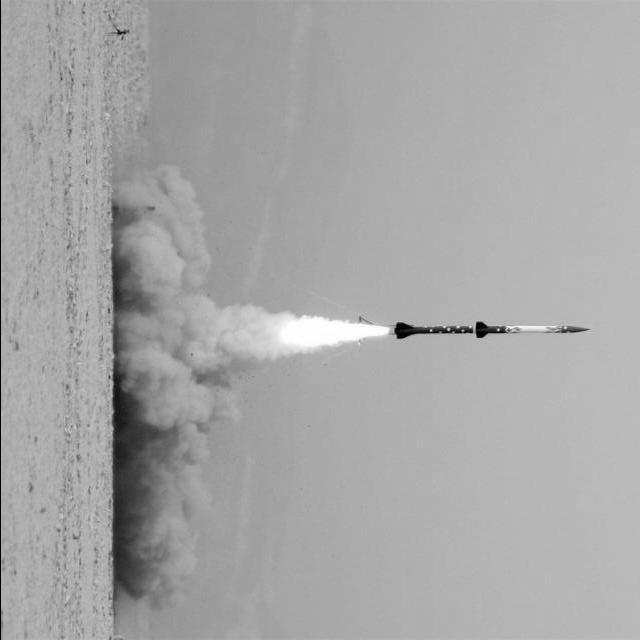missile: (394, 318, 586, 340)
